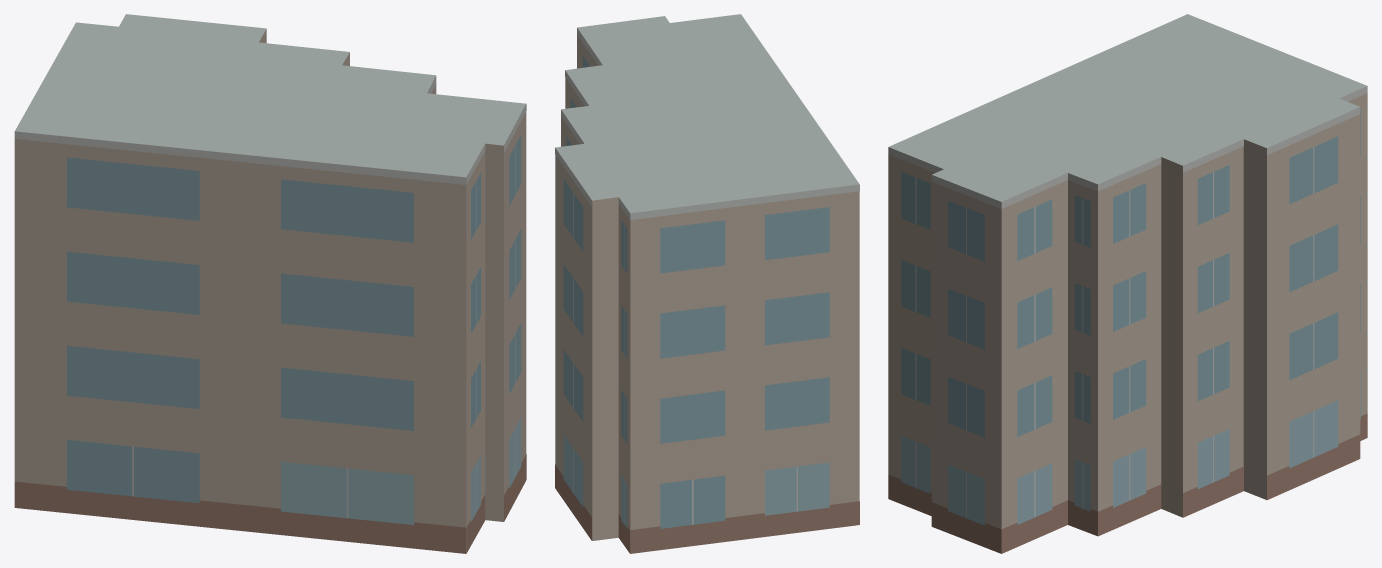
The model's file is survey-upis-32940255.glb.
The picture shows the model from 3 angles, left to right: view 1: azimuth 30°, elevation 25°; view 2: azimuth 150°, elevation 25°; view 3: azimuth 270°, elevation 25°; orthographic projection. The views are drawn at different scales.
Parts seen in each view (by area): view 1: survey-upis-32940255.tmp; view 2: survey-upis-32940255.tmp; view 3: survey-upis-32940255.tmp.
Boxes of the visible parts, box(x1,y1,x2,y2) form: survey-upis-32940255.tmp: box(14, 14, 526, 553); survey-upis-32940255.tmp: box(555, 14, 859, 553); survey-upis-32940255.tmp: box(888, 14, 1367, 553).
Bounding box in the file's own units: 13.98 × 12.2 × 15.07.
